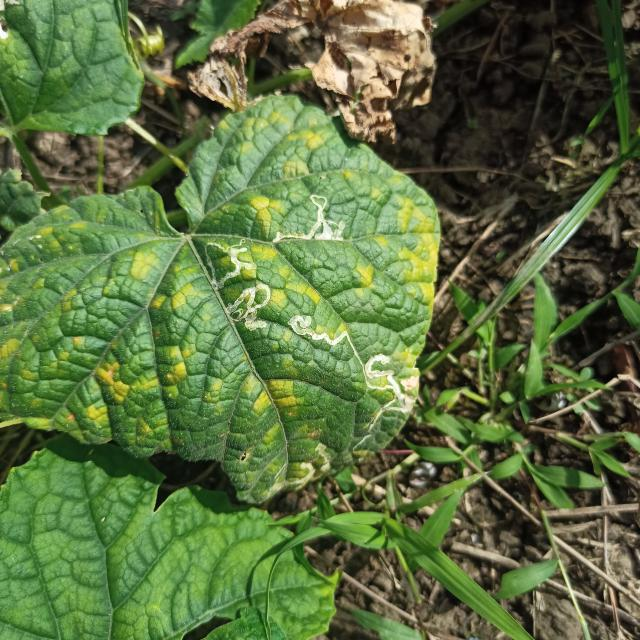disease_cucumber: (14, 115, 432, 483)
